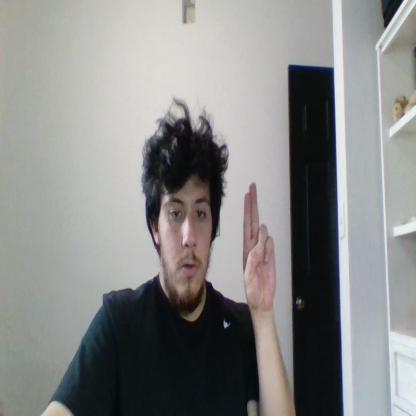U: (244, 180, 275, 310)
